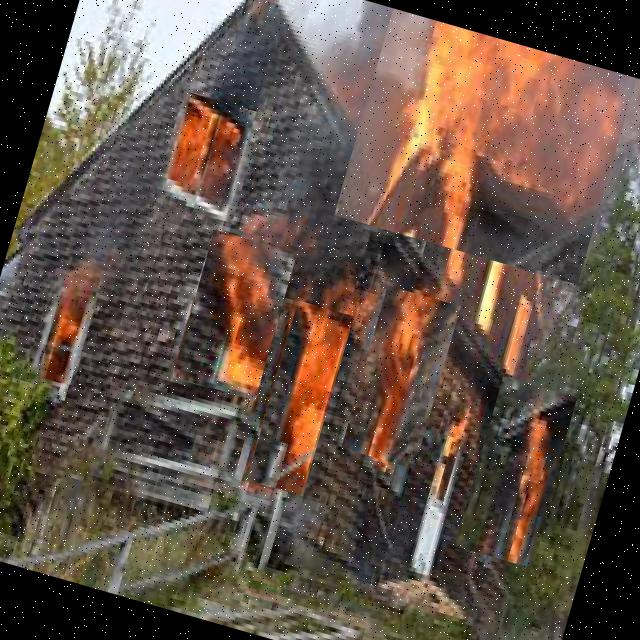fire: (334, 8, 636, 284), (454, 376, 577, 566), (340, 286, 460, 468), (172, 229, 296, 400), (246, 300, 353, 496), (152, 90, 262, 222), (26, 267, 102, 385)
